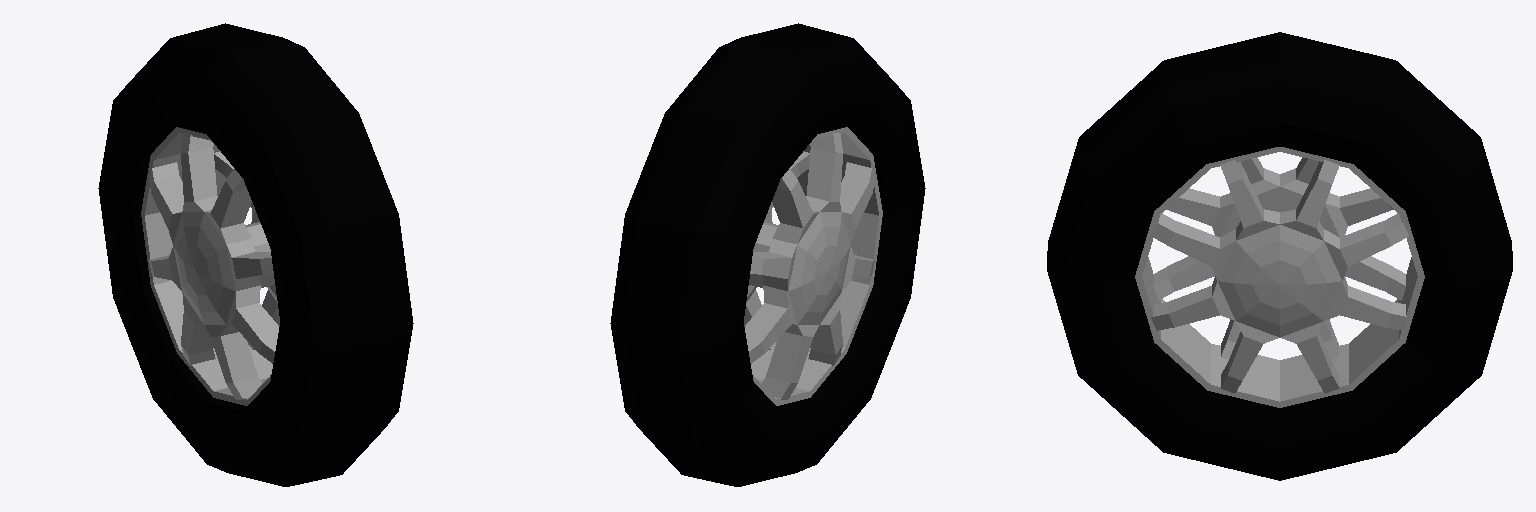
The model's file is tire.obj.
The picture shows the model from 3 angles: view 1: azimuth 30°, elevation 25°; view 2: azimuth 150°, elevation 25°; view 3: azimuth 270°, elevation 25°; orthographic projection.
Size of the model in its own units: 0.8713 by 2.91 by 2.91.